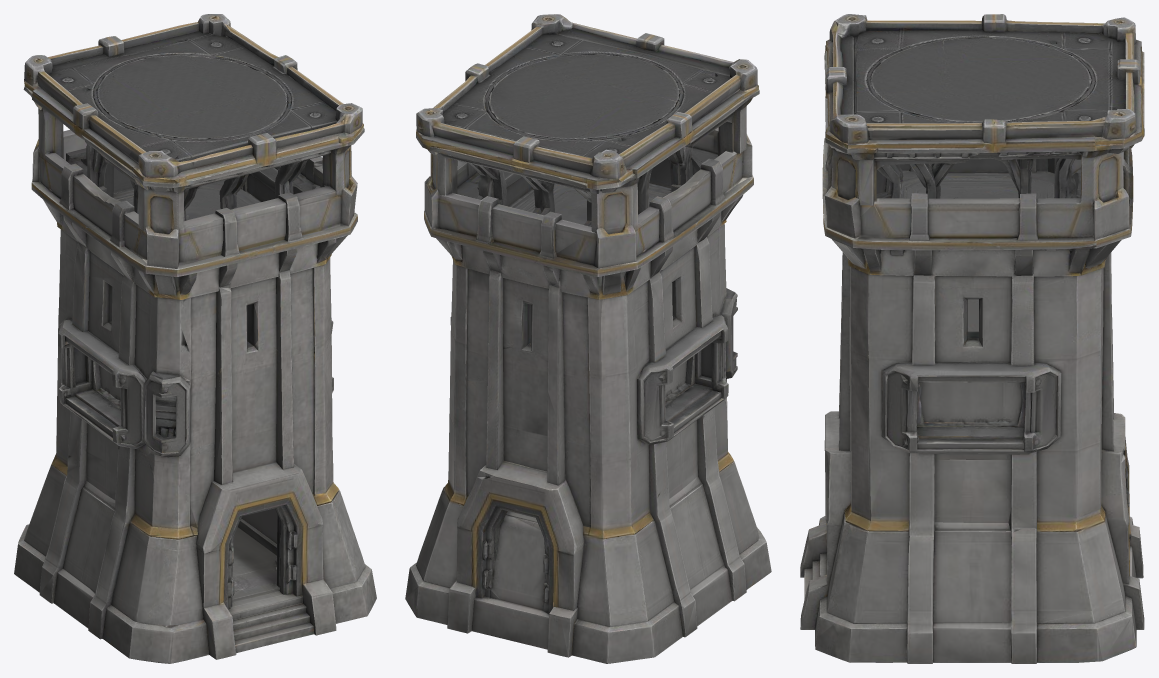
The model's file is imperial_city_wall_tower.glb.
3 renders of one model, left to right at view 1: azimuth 30°, elevation 25°; view 2: azimuth 150°, elevation 25°; view 3: azimuth 270°, elevation 25°, orthographic. The views are drawn at different scales.
Parts seen in each view (by area): view 1: mesh_node; view 2: mesh_node; view 3: mesh_node.
Boxes of the visible parts, x1,y1,x2,y2 form: mesh_node: [14, 14, 376, 663]; mesh_node: [405, 14, 771, 663]; mesh_node: [800, 14, 1144, 663].
Bounding box in the file's own units: 6.46 × 12.19 × 7.17.
Materials: 1 (1 with a texture image).
